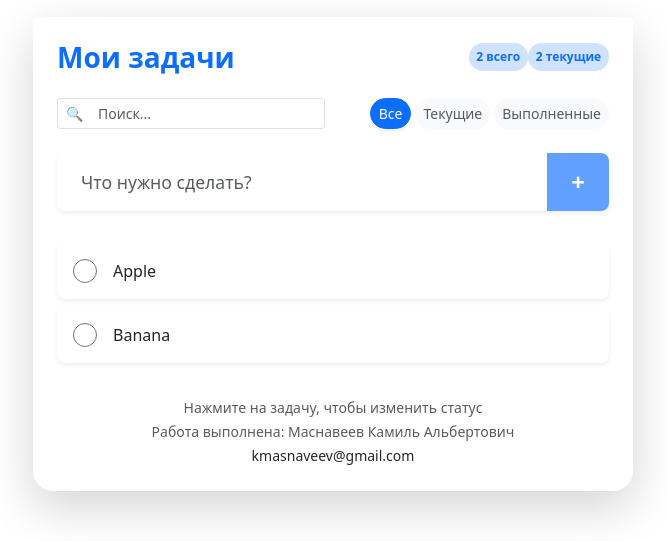
it: TodoApp Component › searches for tasks
Type "App" into the field with placeholder "Поиск..." at (208, 114), box x1=90 y1=98 x2=325 y2=129
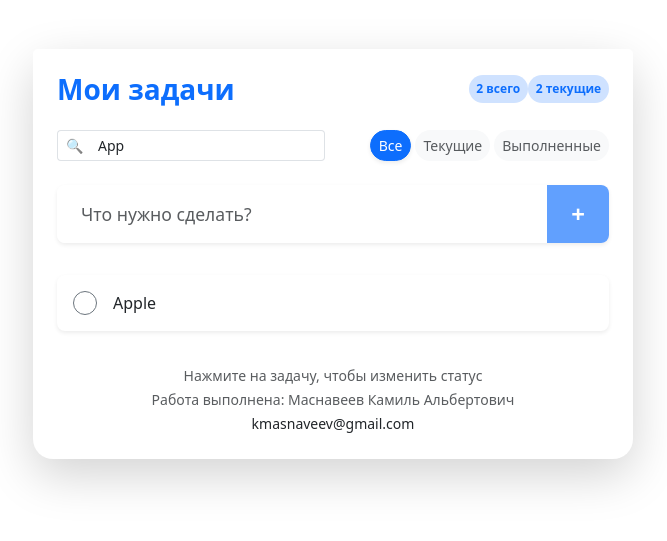
Expected: the text "Apple" is shown, x1=113 y1=292 x2=156 y2=316
Expected: the text "Banana" is gone
